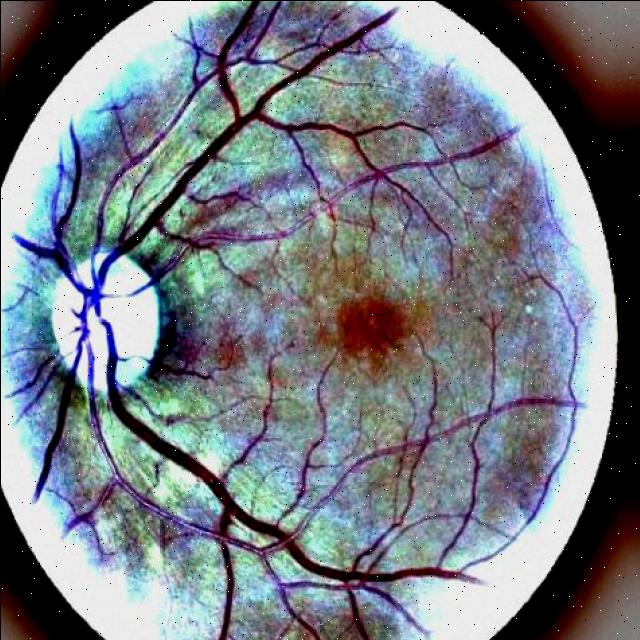Macula: (321, 279, 421, 367)
Nerves: (64, 313, 481, 640), (70, 33, 370, 330)
Optic Disk: (19, 228, 211, 420)
